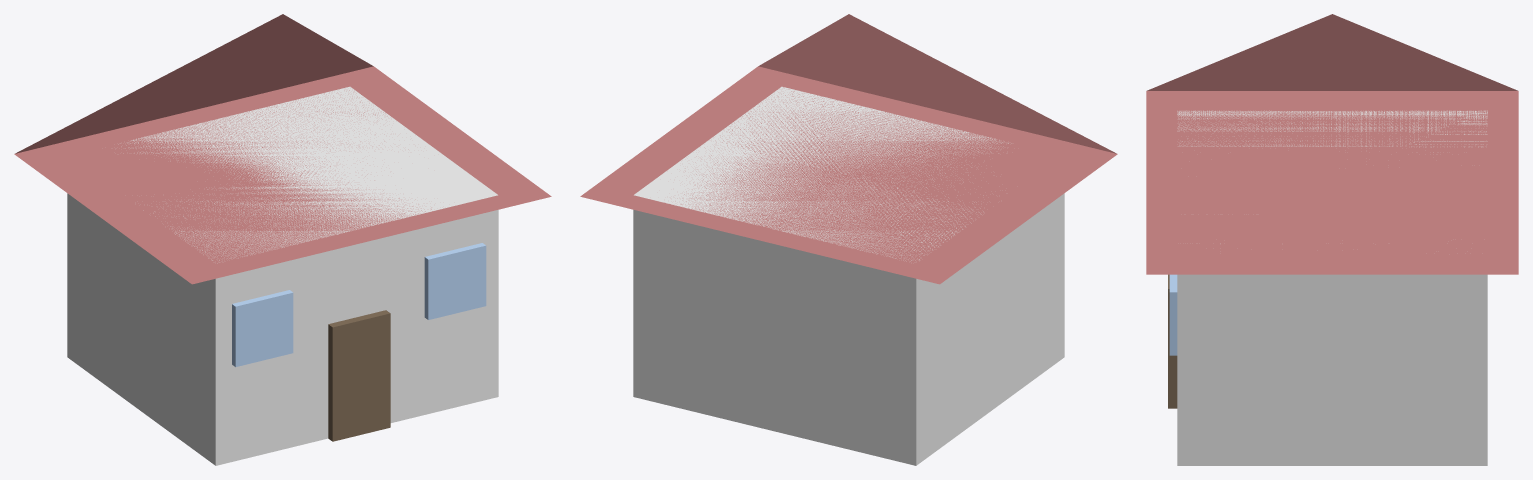
Rendered from house.glb.
3 views of the same model, side by side, from view 1: azimuth 30°, elevation 25°; view 2: azimuth 150°, elevation 25°; view 3: azimuth 270°, elevation 25° (orthographic). The views are drawn at different scales.
Parts seen in each view (by area): view 1: House; view 2: House; view 3: House.
Boxes of the visible parts, bbox=[...] form: House: bbox=[14, 14, 551, 465]; House: bbox=[580, 14, 1117, 465]; House: bbox=[1146, 14, 1518, 465].
Size of the model in its own units: 2.8 by 2.7 by 2.4.
